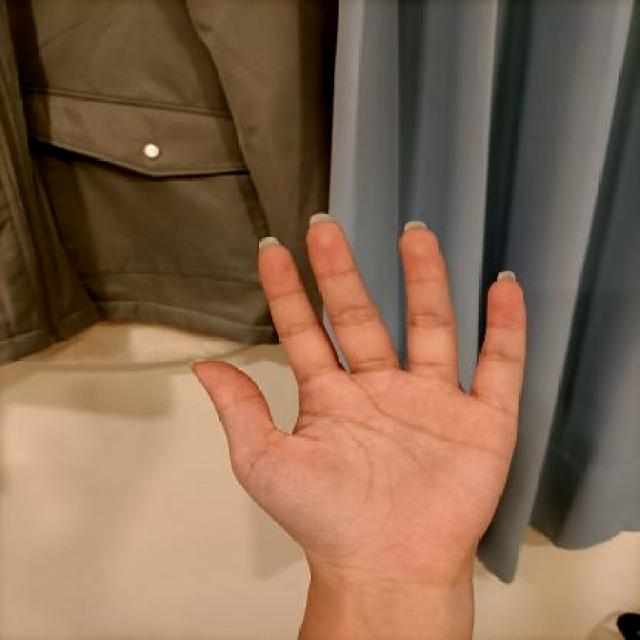no_glove: (184, 205, 545, 584)
